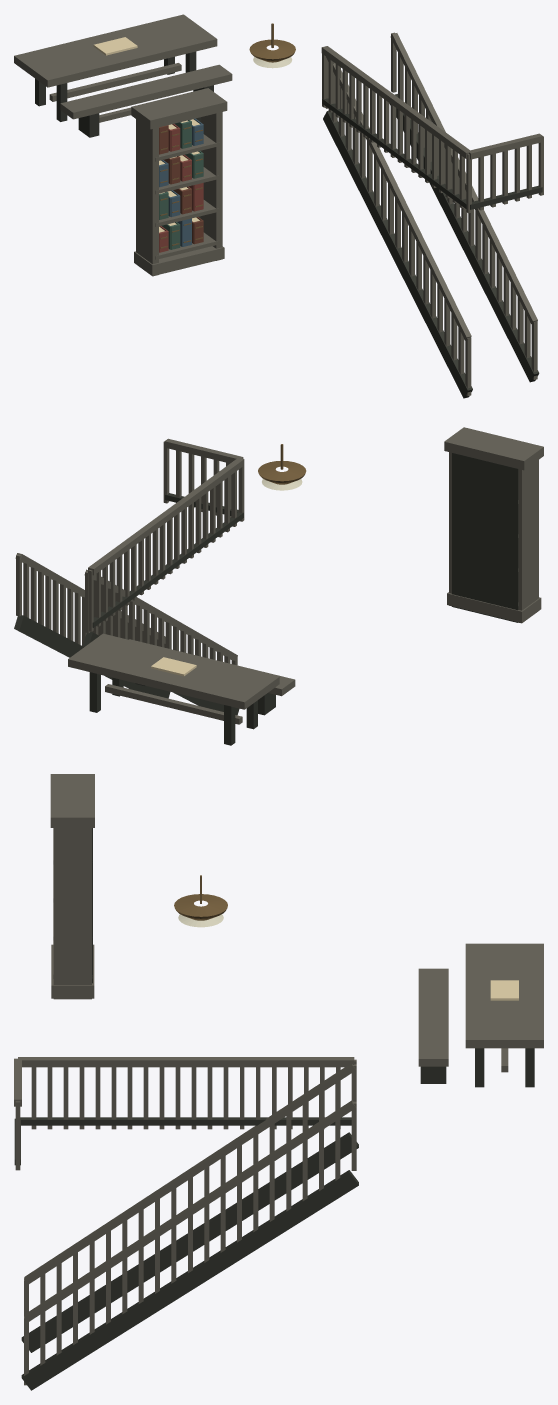
The model's file is upstairs_guildhall.glb.
3 views of the same model, one above another, from view 1: azimuth 30°, elevation 25°; view 2: azimuth 150°, elevation 25°; view 3: azimuth 270°, elevation 25° (orthographic). The views are drawn at different scales.
Parts seen in each view (by area): view 1: upstairs_guildhall; view 2: upstairs_guildhall; view 3: upstairs_guildhall.
Boxes of the visible parts, <box> form: upstairs_guildhall: <box>14,14,543,398</box>; upstairs_guildhall: <box>14,427,543,745</box>; upstairs_guildhall: <box>14,774,543,1390</box>.
Bounding box in the file's own units: 7.14 × 6.31 × 7.44.
